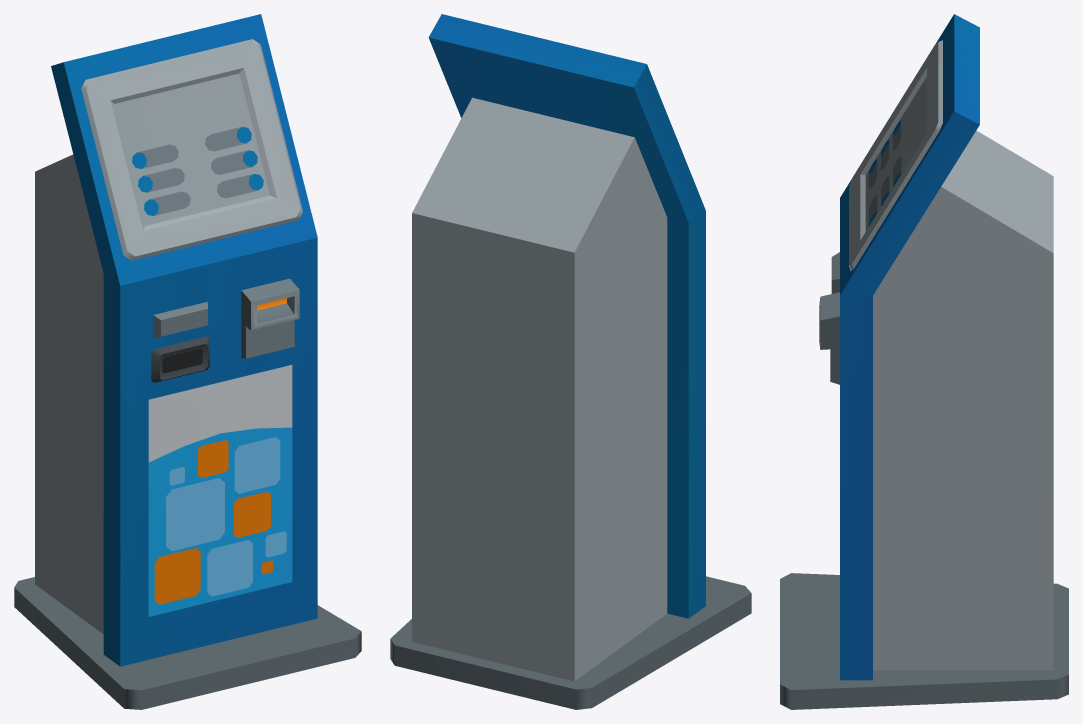
The model's file is ATM_03.obj.
3 renders of one model, left to right at view 1: azimuth 30°, elevation 25°; view 2: azimuth 150°, elevation 25°; view 3: azimuth 270°, elevation 25°, orthographic. The views are drawn at different scales.
Visible parts, largest first — view 1: ATM_03; view 2: ATM_03; view 3: ATM_03.
Part boxes in pixels (<box>): ATM_03: <box>14,14,361,709</box>; ATM_03: <box>390,14,751,709</box>; ATM_03: <box>780,14,1068,709</box>.
Bounding box in the file's own units: 0.6677 × 1.57 × 0.6962.
Materials: 2 (2 with a texture image).
